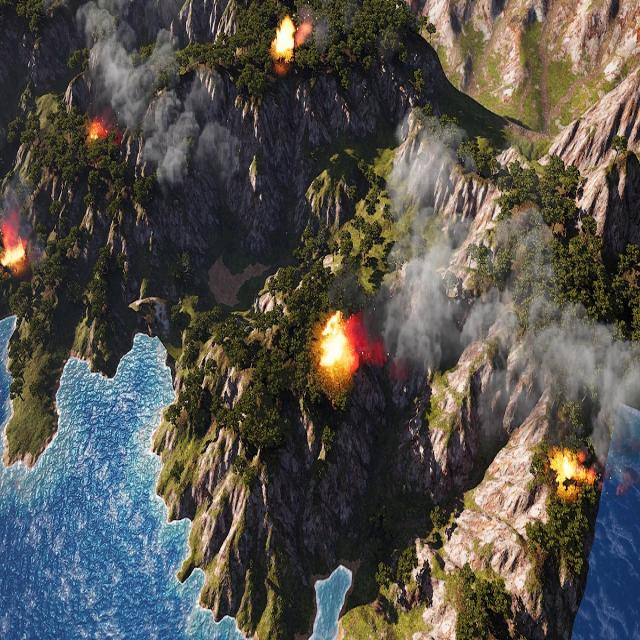fire: (317, 311, 357, 378), (556, 449, 596, 491), (271, 16, 295, 59), (0, 242, 24, 264), (88, 119, 108, 142)
smoke: (351, 110, 640, 494), (77, 0, 243, 192), (0, 178, 43, 266), (296, 0, 340, 62)
